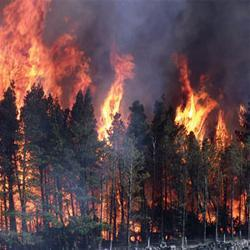fire: (0, 5, 46, 85), (50, 47, 82, 95), (100, 84, 123, 127), (179, 99, 208, 128)
